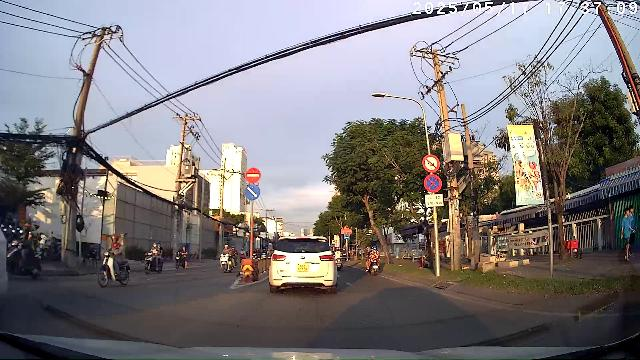128-cam-su-dung-coi: (422, 154, 440, 173)
130-cam-dung-va-do-xe: (424, 174, 442, 192)
